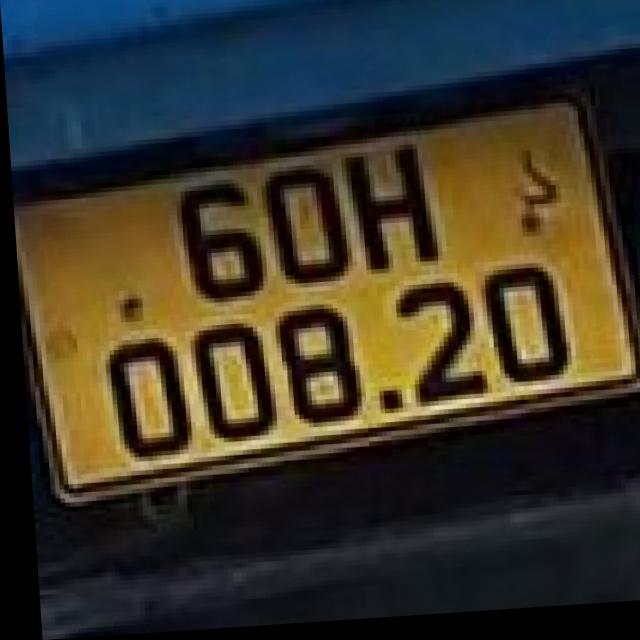0: (257, 167, 349, 293), (476, 271, 567, 391), (100, 338, 186, 463), (186, 323, 271, 444)
2: (391, 286, 484, 411)
6: (174, 180, 261, 303)
8: (269, 306, 360, 433)
H: (339, 150, 439, 279)
